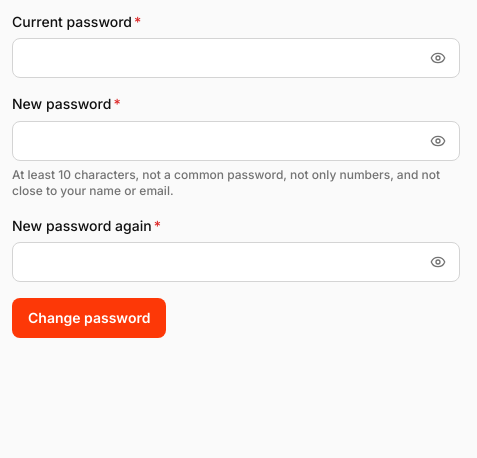
PasswordChangeForm › says what happened to the other sessions, and clears the fields
In the password field with id "current-password": (236, 58) [12,38,460,78], type "old-password-1"
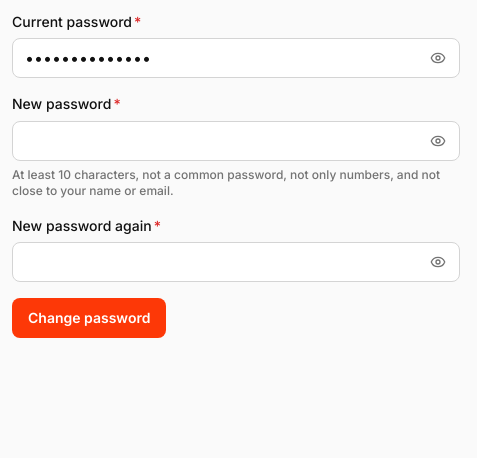
In the password field with id "new-password": (236, 141) [12,121,460,161], type "new-password-long-1"
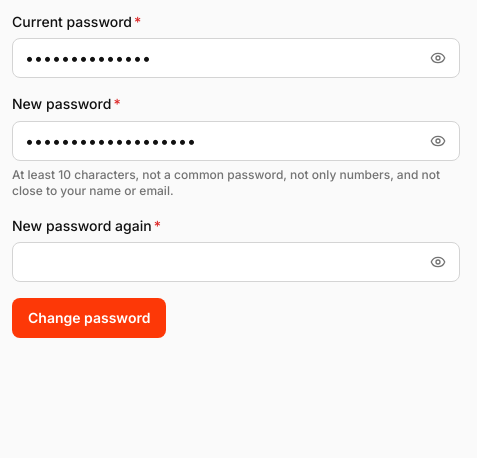
In the password field with id "confirm-password": (236, 262) [12,242,460,282], type "new-password-long-1"
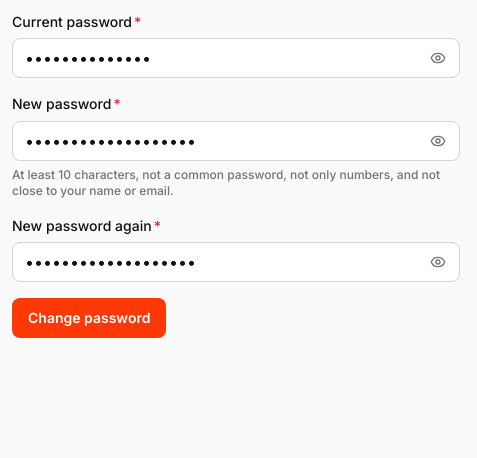
Click the button "Change password": (89, 318) [12,298,166,338]
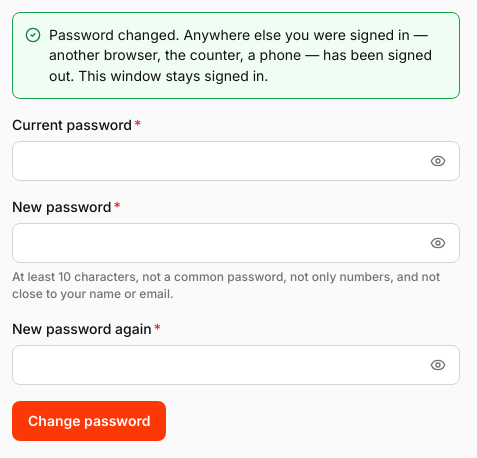
Result: the message shows "signed out" at [49,26,432,84]
Result: the password field with id "current-password" is empty at [12,141,460,181]
